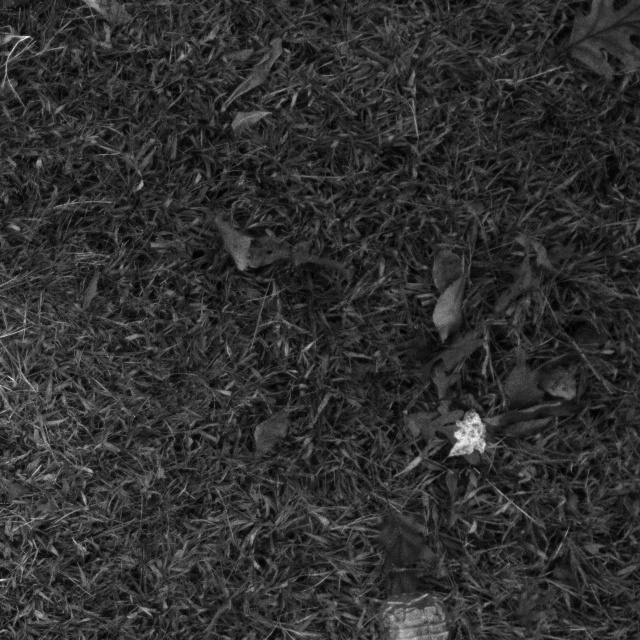bottle: (367, 582, 470, 640)
